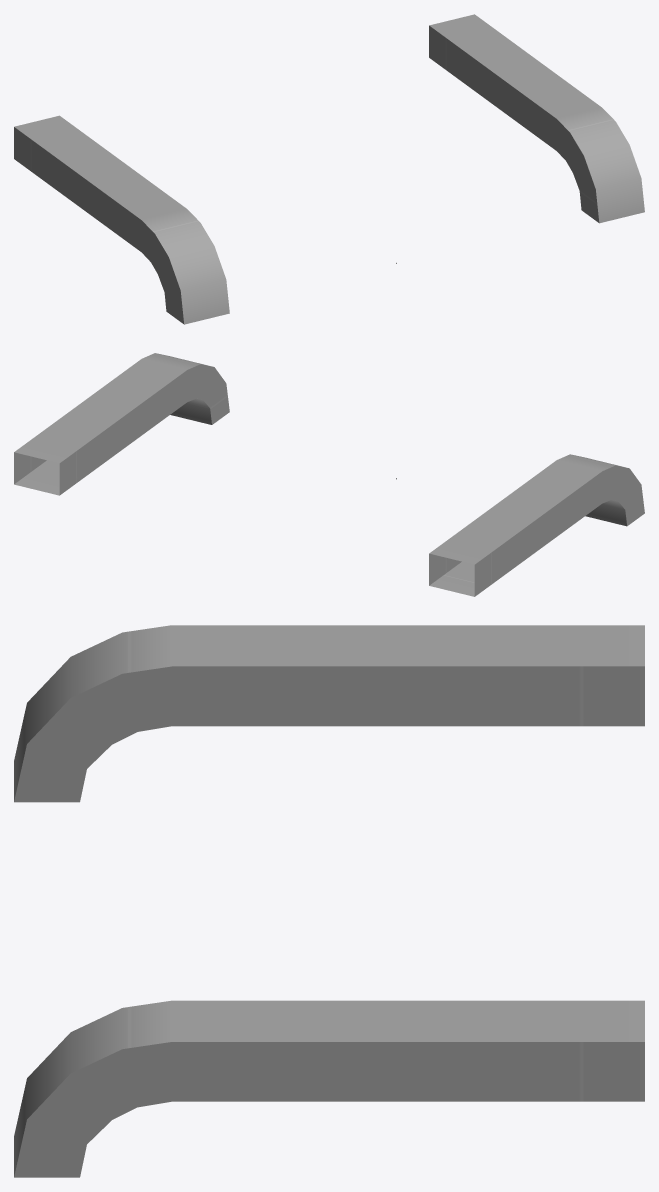
The model's file is MeshTelevisionStand_28_1_GeomSubset_1.obj.
3 renders of one model, top to bottom at view 1: azimuth 30°, elevation 25°; view 2: azimuth 150°, elevation 25°; view 3: azimuth 270°, elevation 25°, orthographic. The views are drawn at different scales.
Parts seen in each view (by area): view 1: MeshTelevisionStand_28_1_GeomSubset_1; view 2: MeshTelevisionStand_28_1_GeomSubset_1; view 3: MeshTelevisionStand_28_1_GeomSubset_1.
Boxes of the visible parts, x1=… form: MeshTelevisionStand_28_1_GeomSubset_1: x1=14, y1=14, x2=644, y2=324; MeshTelevisionStand_28_1_GeomSubset_1: x1=14, y1=353, x2=644, y2=596; MeshTelevisionStand_28_1_GeomSubset_1: x1=14, y1=625, x2=644, y2=1177.
Size of the model in its own units: 0.5914 by 0.1008 by 0.3785.
